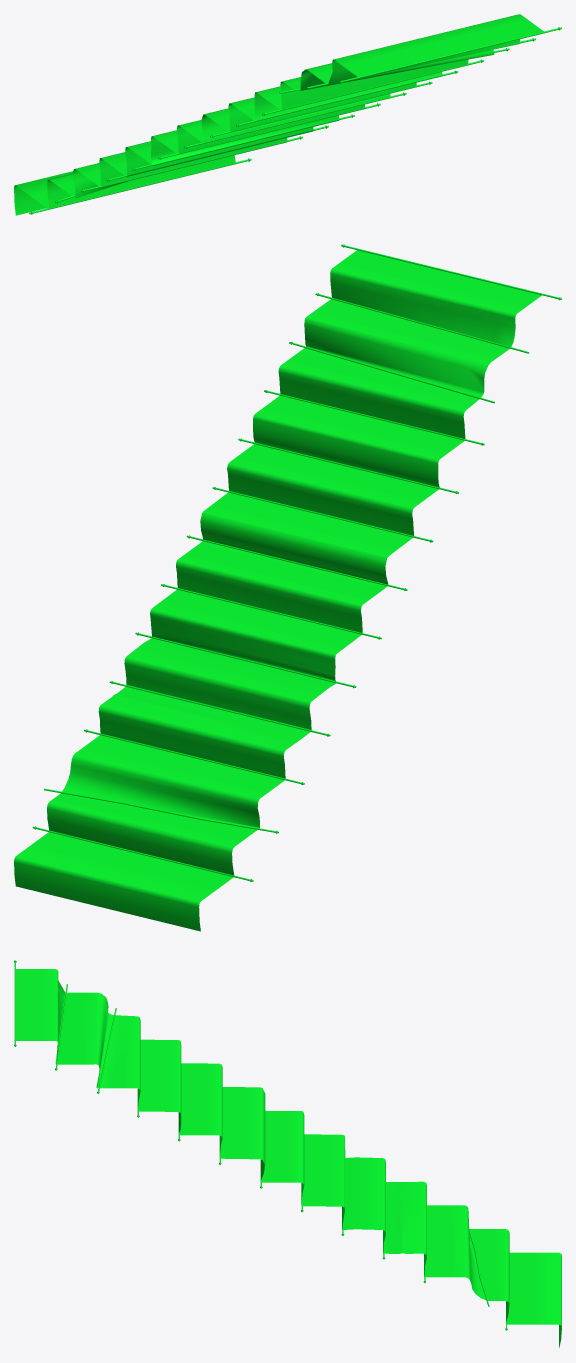
File: AR_StaircaseRug_01.FBX
3 views of the same model, one above another, from view 1: azimuth 30°, elevation 25°; view 2: azimuth 150°, elevation 25°; view 3: azimuth 270°, elevation 25° (orthographic). The views are drawn at different scales.
Parts seen in each view (by area): view 1: AR-StaircaseRug_01; view 2: AR-StaircaseRug_01; view 3: AR-StaircaseRug_01.
Part boxes in pixels (x1,y1,x2,y2): AR-StaircaseRug_01: (14,14,561,215); AR-StaircaseRug_01: (14,244,561,931); AR-StaircaseRug_01: (14,960,561,1347).
Bounding box in the file's own units: 144 × 243 × 390.
